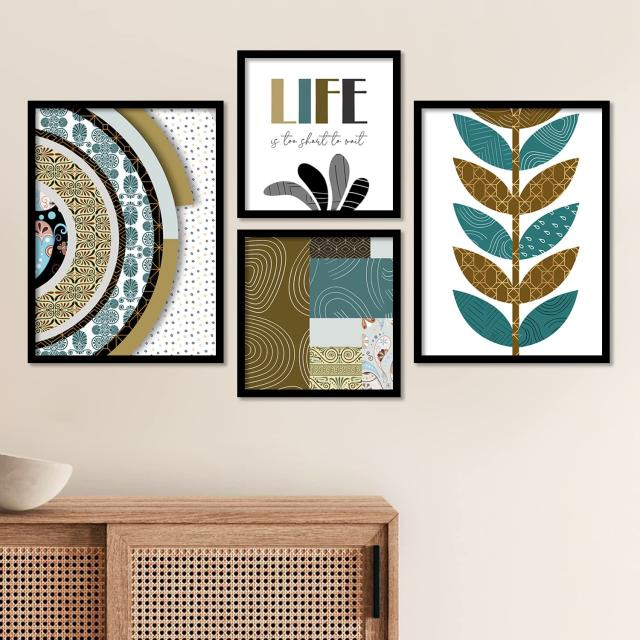painting: (27, 99, 224, 364), (413, 100, 610, 365), (238, 51, 402, 220), (238, 230, 402, 399)
